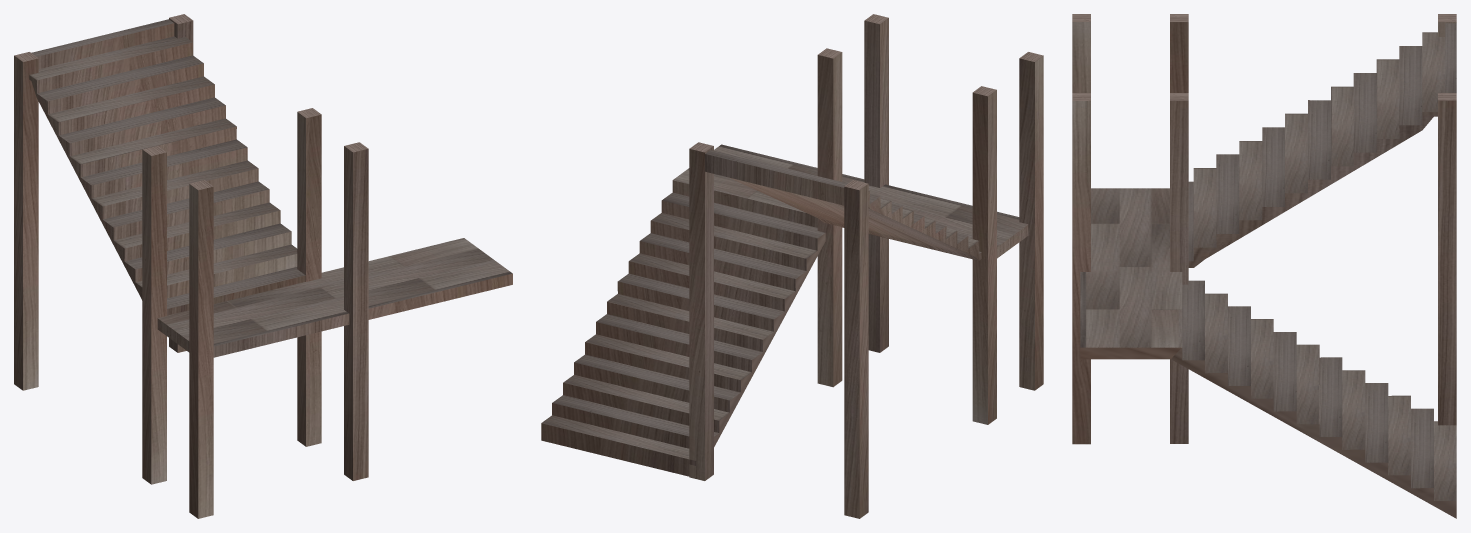
File: DoubleStairs.fbx
3 renders of one model, left to right at view 1: azimuth 30°, elevation 25°; view 2: azimuth 150°, elevation 25°; view 3: azimuth 270°, elevation 25°, orthographic. The views are drawn at different scales.
Parts seen in each view (by area): view 1: Double stairs; view 2: Double stairs; view 3: Double stairs.
Boxes of the visible parts, left/top/right/bottom form: Double stairs: left=14, top=14, right=512, bottom=518; Double stairs: left=541, top=14, right=1043, bottom=518; Double stairs: left=1072, top=14, right=1456, bottom=518.
Bounding box in the file's own units: 612 × 604 × 613.
